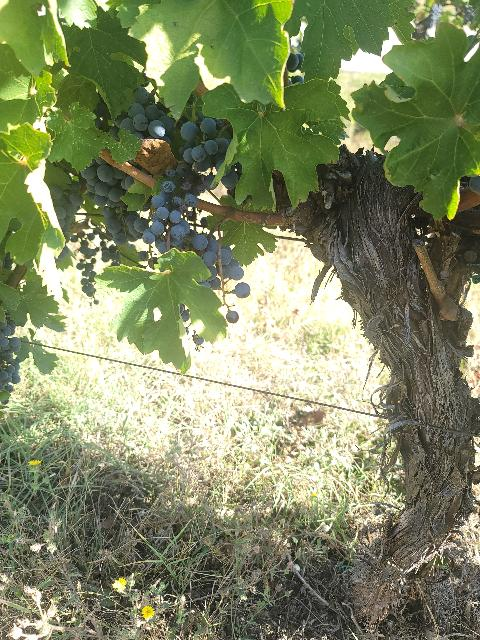grapes: (80, 158, 140, 246), (192, 234, 250, 324), (115, 86, 175, 140), (180, 118, 229, 164), (71, 231, 98, 298), (0, 318, 21, 394)
